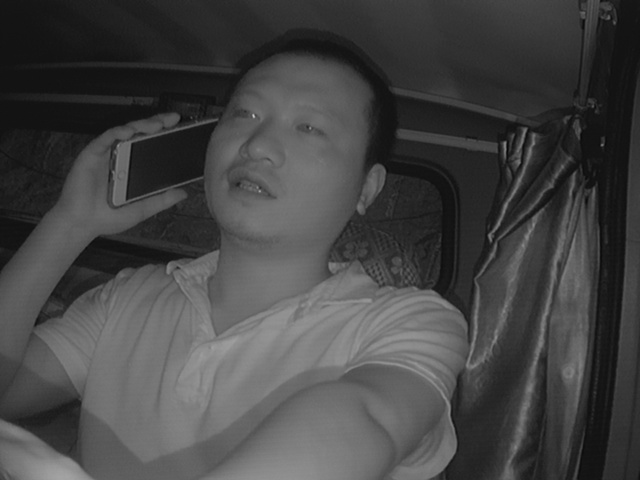hand: (72, 112, 184, 229)
